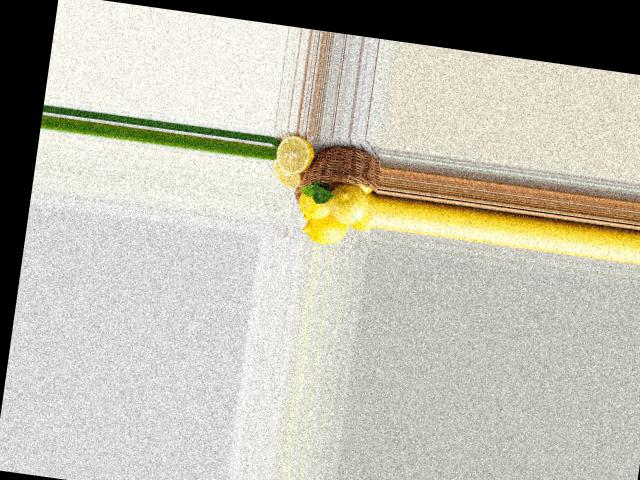lemon: (294, 180, 338, 224)
